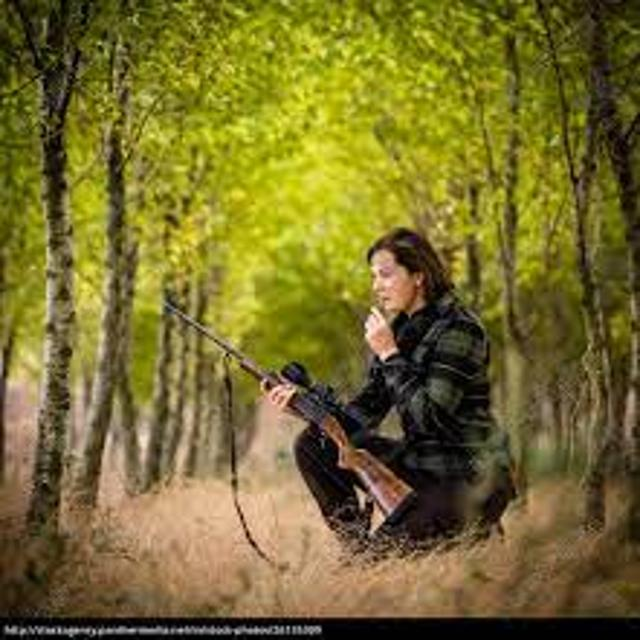gun: (146, 273, 446, 544)
poacher: (233, 198, 545, 584)
